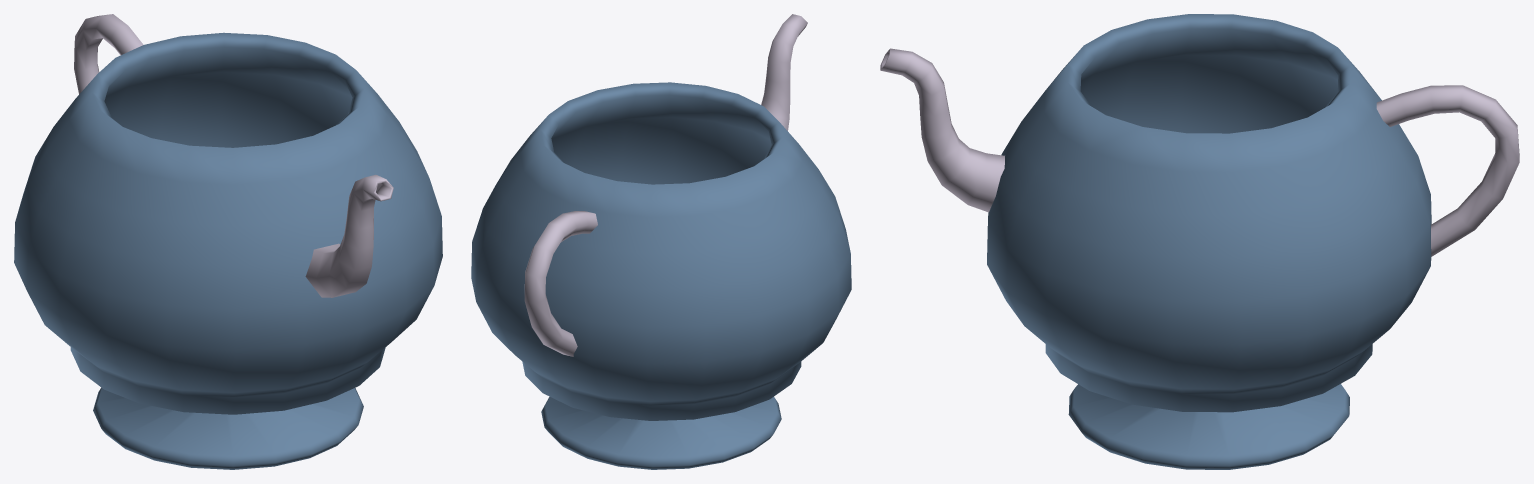
The model's file is Teapot.fbx.
3 views of the same model, side by side, from view 1: azimuth 30°, elevation 25°; view 2: azimuth 150°, elevation 25°; view 3: azimuth 270°, elevation 25° (orthographic). The views are drawn at different scales.
Parts seen in each view (by area): view 1: Teapot, Teapot.Cover; view 2: Teapot, Teapot.Cover; view 3: Teapot, Teapot.Cover.
Part boxes in pixels (x1,y1,x2,y2): Teapot: [14, 14, 442, 414]; Teapot.Cover: [93, 387, 363, 469]; Teapot: [471, 14, 851, 420]; Teapot.Cover: [541, 396, 781, 469]; Teapot: [880, 14, 1519, 412]; Teapot.Cover: [1068, 384, 1349, 469].
Size of the model in its own units: 29.47 by 26.41 by 42.32.
